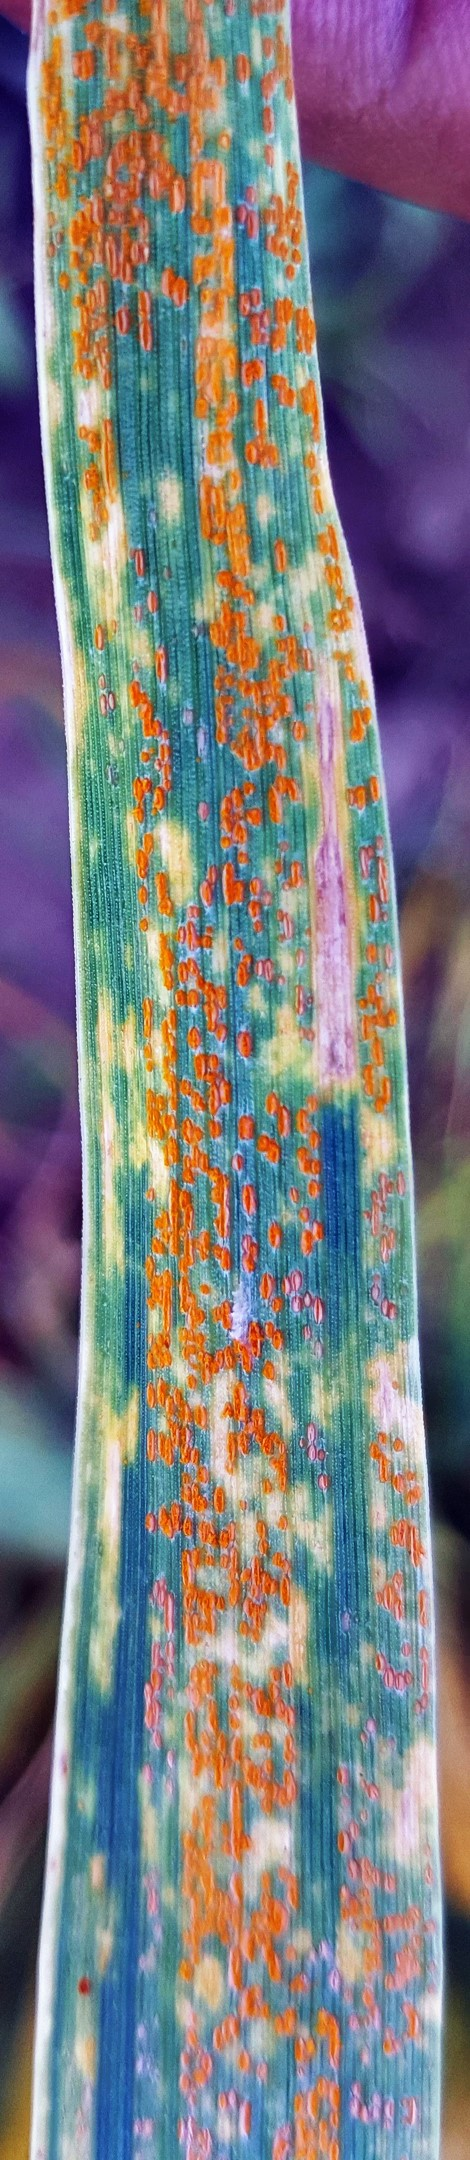Leaf Rust: (15, 80, 469, 2160)
